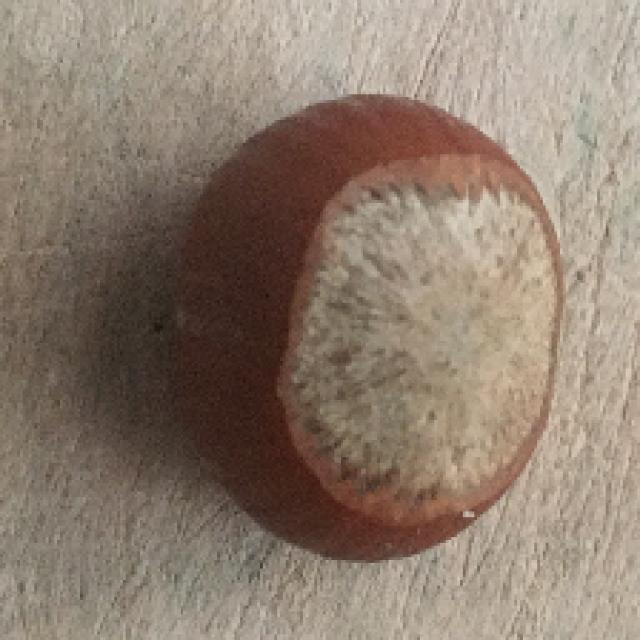qualityHazelnut: (169, 95, 563, 565)
